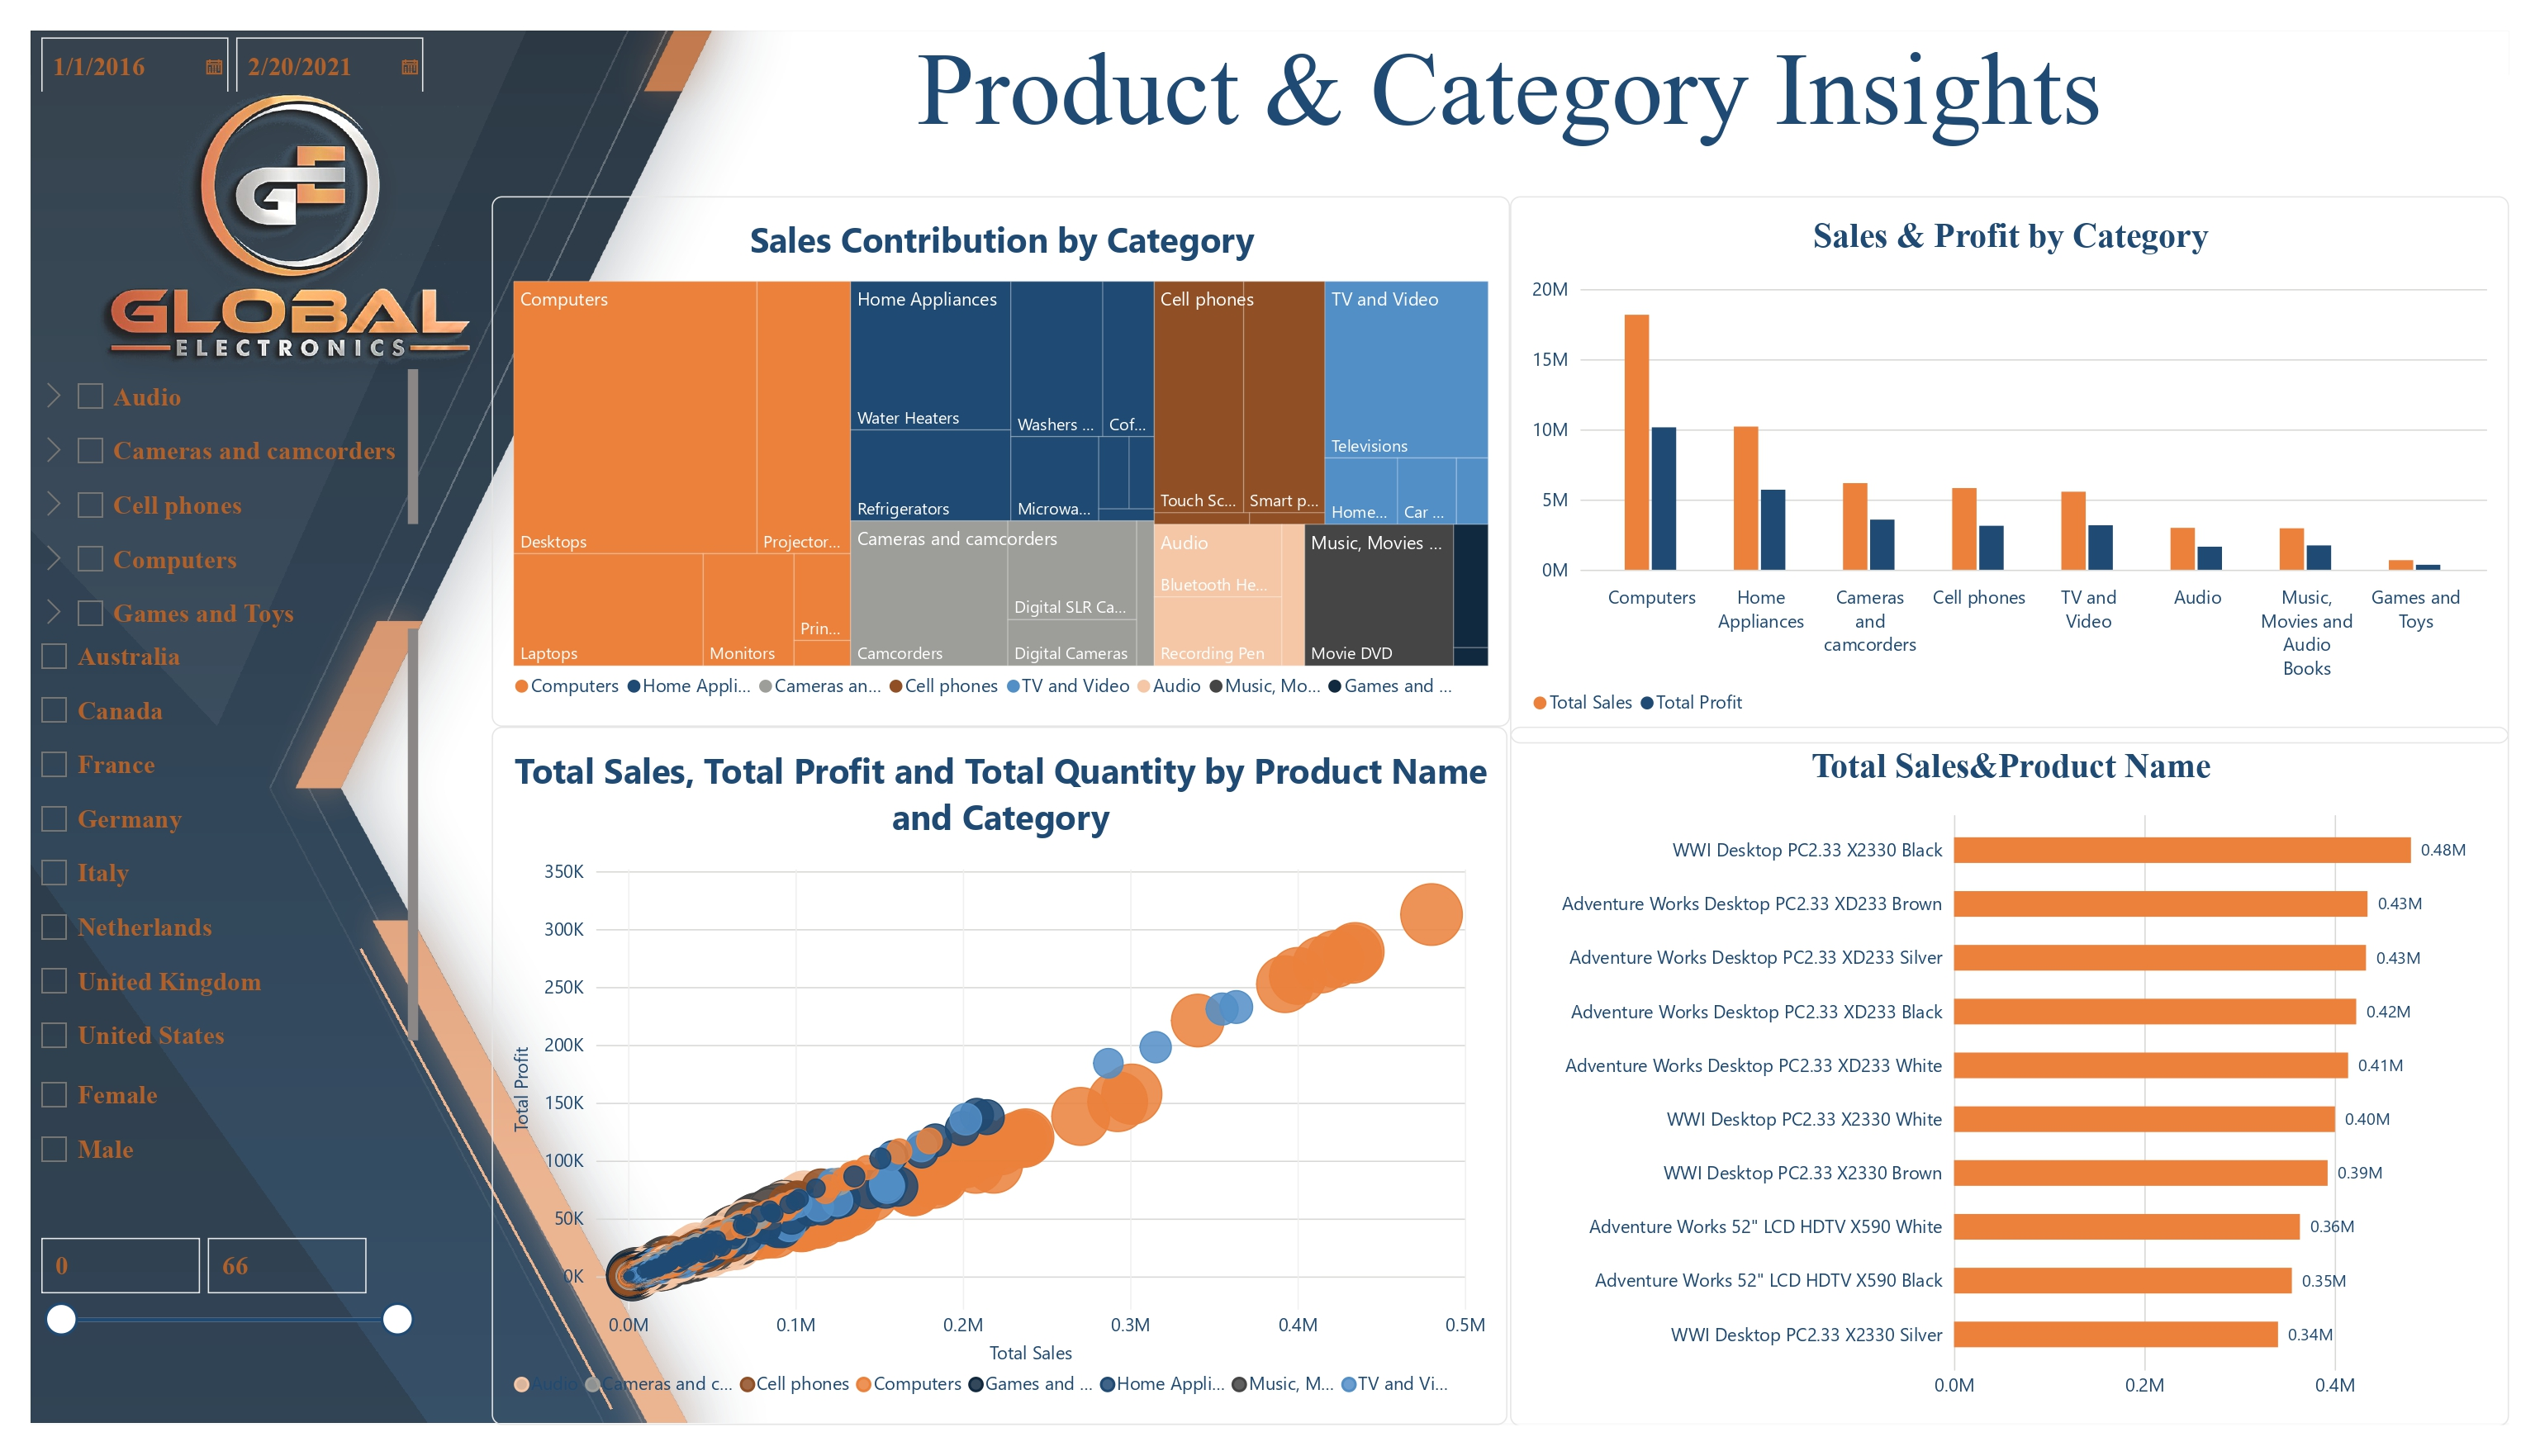

What the dashboard file says about the page in this screenshot:
{"tool":"powerbi","page":{"name":"Product & Category Insights","canvas":[1920,1080],"ordinal":2},"visuals":[{"type":"textbox","box":[371,0,1549.1,94.1],"z":0},{"type":"slicer","fields":{"Values":["Sales.Order Date"]},"box":[0,0,320.3,47.1],"z":1},{"type":"slicer","fields":{"Values":["Products.Category","Products.Brand"]},"box":[0,262.4,300.4,200.9],"z":2},{"type":"slicer","fields":{"Values":["Customers.Country"]},"box":[0,463.3,300.4,331.2],"z":3},{"type":"slicer","fields":{"Values":["Customers.Gender"]},"box":[0,803.5,300.4,103.2],"z":4},{"type":"slicer","fields":{"Values":["Sales.StoreKey"]},"box":[0,930,300,150],"z":5},{"type":"clusteredColumnChart","title":"Sales & Profit by Category","fields":{"Category":["Products.Category"],"Y":["_Measures.Total Sales","_Measures.Total Profit"]},"box":[1145.5,128.5,774.5,423.5],"z":6},{"type":"treemap","title":"Sales Contribution by Category","fields":{"Details":["Products.Subcategory"],"Group":["Products.Category"],"Values":["_Measures.Total Sales"]},"box":[356.5,128.5,789,410.8],"z":7},{"type":"clusteredBarChart","title":"Total Sales&Product Name","fields":{"Category":["Products.Product Name"],"Y":["_Measures.Total Sales"]},"box":[1146.5,539.3,773.9,541.3],"z":8},{"type":"scatterChart","fields":{"Category":["Products.Product Name"],"Series":["Products.Category"],"Size":["_Measures.Total Quantity"],"X":["_Measures.Total Sales"],"Y":["_Measures.Total Profit"]},"box":[356.5,539.3,787.2,541.1],"z":9}]}

Visuals, with their boxes on the page's 1920x1080 design canvas (x1, y1, x2, y2). These are canvas units, not pixel positions in the 2540x1456 screenshot, which may show the page scaled, cropped or inside an application window:
textbox: x1=371, y1=0, x2=1920, y2=94
slicer - Sales.Order Date: x1=0, y1=0, x2=320, y2=47
slicer - Products.Category x Products.Brand: x1=0, y1=262, x2=300, y2=463
slicer - Customers.Country: x1=0, y1=463, x2=300, y2=794
slicer - Customers.Gender: x1=0, y1=804, x2=300, y2=907
slicer - Sales.StoreKey: x1=0, y1=930, x2=300, y2=1080
"Sales & Profit by Category" clusteredColumnChart: x1=1146, y1=128, x2=1920, y2=552
"Sales Contribution by Category" treemap: x1=356, y1=128, x2=1146, y2=539
"Total Sales&Product Name" clusteredBarChart: x1=1146, y1=539, x2=1920, y2=1081
scatterChart - Products.Product Name x Products.Category: x1=356, y1=539, x2=1144, y2=1080
